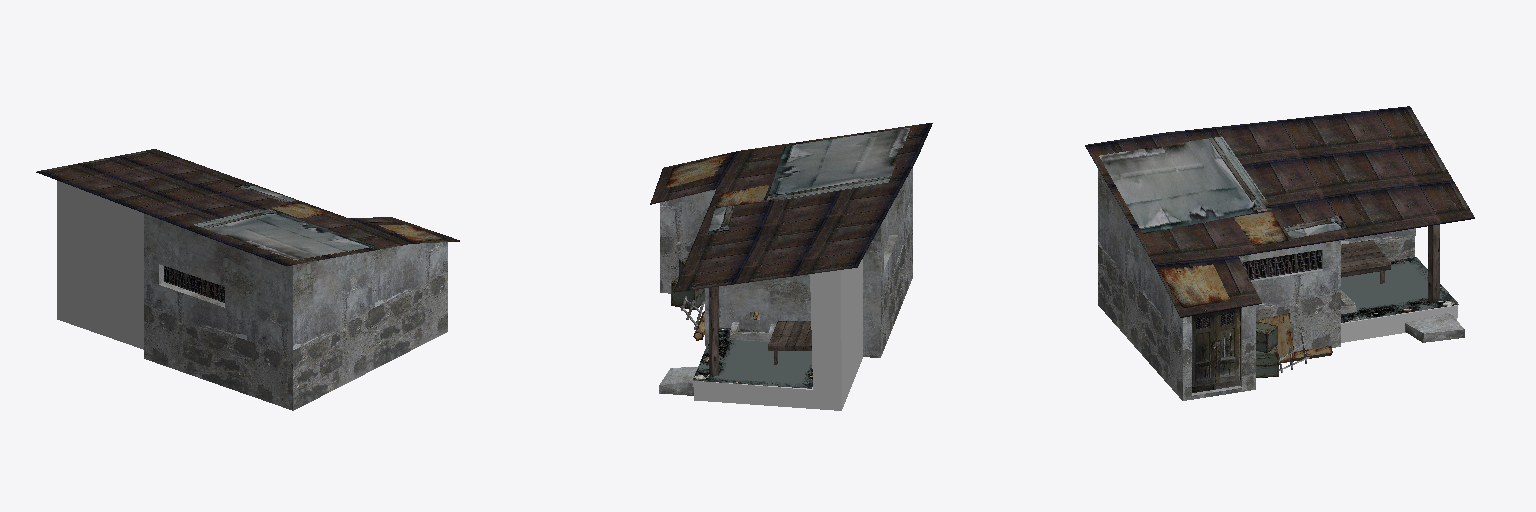
3 renders of one model, left to right at view 1: azimuth 30°, elevation 25°; view 2: azimuth 150°, elevation 25°; view 3: azimuth 270°, elevation 25°, orthographic.
Bounding box in the file's own units: 235 × 114 × 257.
Materials: 11 (10 with a texture image).